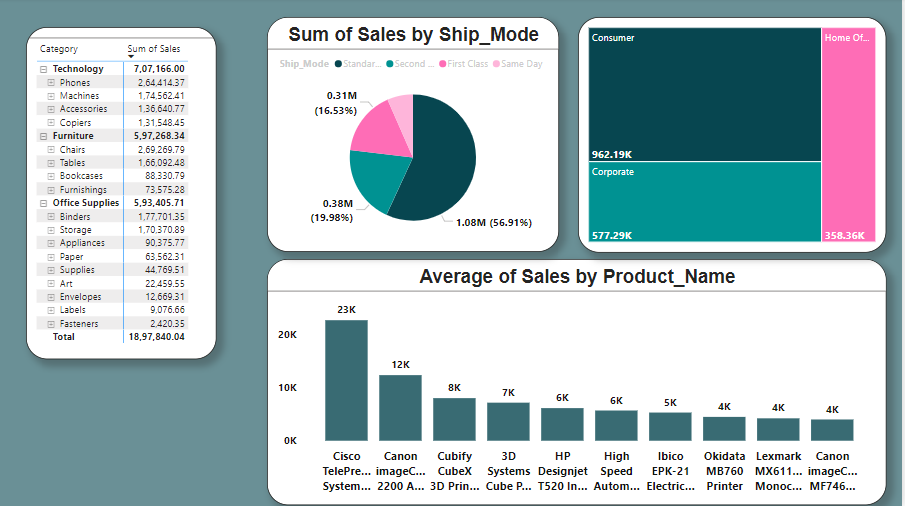

Layout of this report page (visuals, bound fields, positions):
{"tool":"powerbi","page":{"name":"other","canvas":[1280,720],"ordinal":3},"visuals":[{"type":"pivotTable","fields":{"Values":["Sum(superstore.Sales)"],"Rows":["superstore.Category","superstore.Sub_Category","superstore.Product_Name"]},"box":[39.3,41.1,269.6,471.3],"z":0},{"type":"columnChart","fields":{"Category":["superstore.Product_Name"],"Y":["Avg(superstore.Sales)"]},"box":[381.8,370.3,877.9,348.6],"z":1},{"type":"pieChart","fields":{"Category":["superstore.Ship_Mode"],"Y":["Sum(superstore.Sales)"]},"box":[381.8,27.5,413.6,332.7],"z":2},{"type":"treemap","fields":{"Group":["superstore.Segment"],"Values":["Sum(superstore.Sales)"]},"box":[822.7,26.9,437.1,334],"z":3}]}

Visuals, with their boxes in screenshot pixels (x1, y1, x2, y2), scaled from the page's 1280x720 canvas onto the 905x506 screenshot:
pivotTable - Sum(superstore.Sales) x superstore.Category: {"x1": 28, "y1": 29, "x2": 218, "y2": 360}
columnChart - superstore.Product_Name x Avg(superstore.Sales): {"x1": 270, "y1": 260, "x2": 891, "y2": 505}
pieChart - superstore.Ship_Mode x Sum(superstore.Sales): {"x1": 270, "y1": 19, "x2": 562, "y2": 253}
treemap - superstore.Segment x Sum(superstore.Sales): {"x1": 582, "y1": 19, "x2": 891, "y2": 254}
